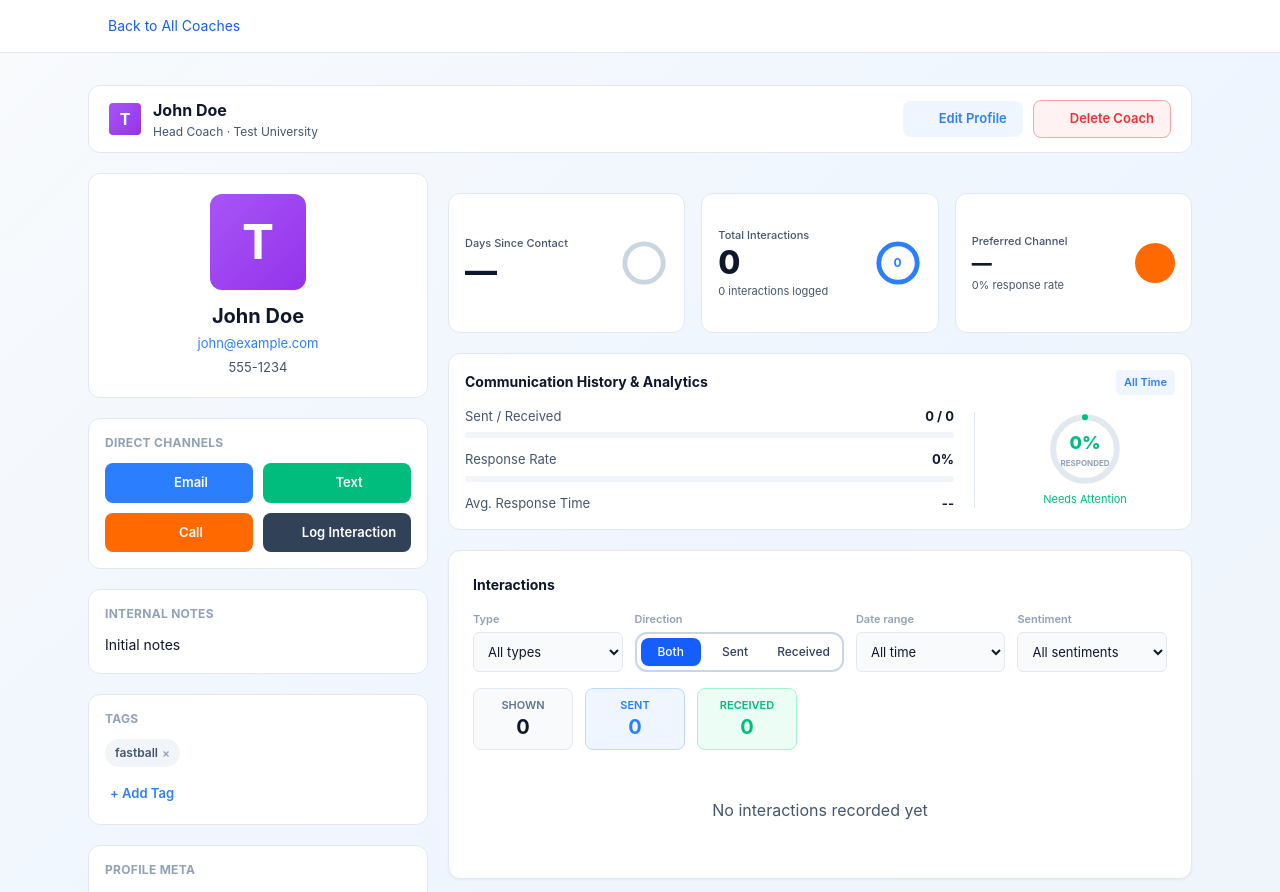
Scenario: Coach Detail Page › Coach Management › handles delete error gracefully
Click the button with test id "coach-header-delete".
click(1102, 119)  # box left=1033, top=100, right=1171, bottom=138
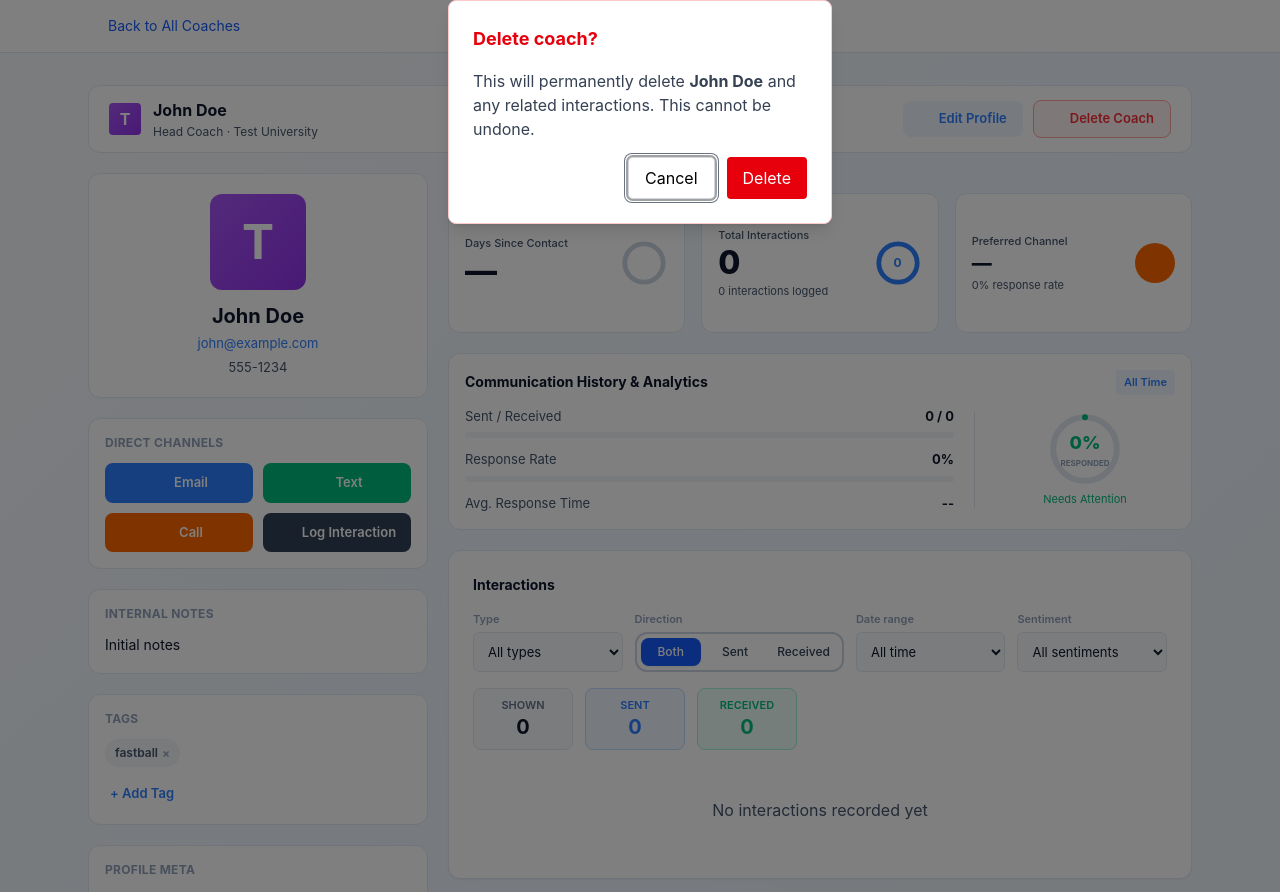
Click the button with test id "confirm-delete-btn".
click(767, 178)  # box left=726, top=157, right=807, bottom=199
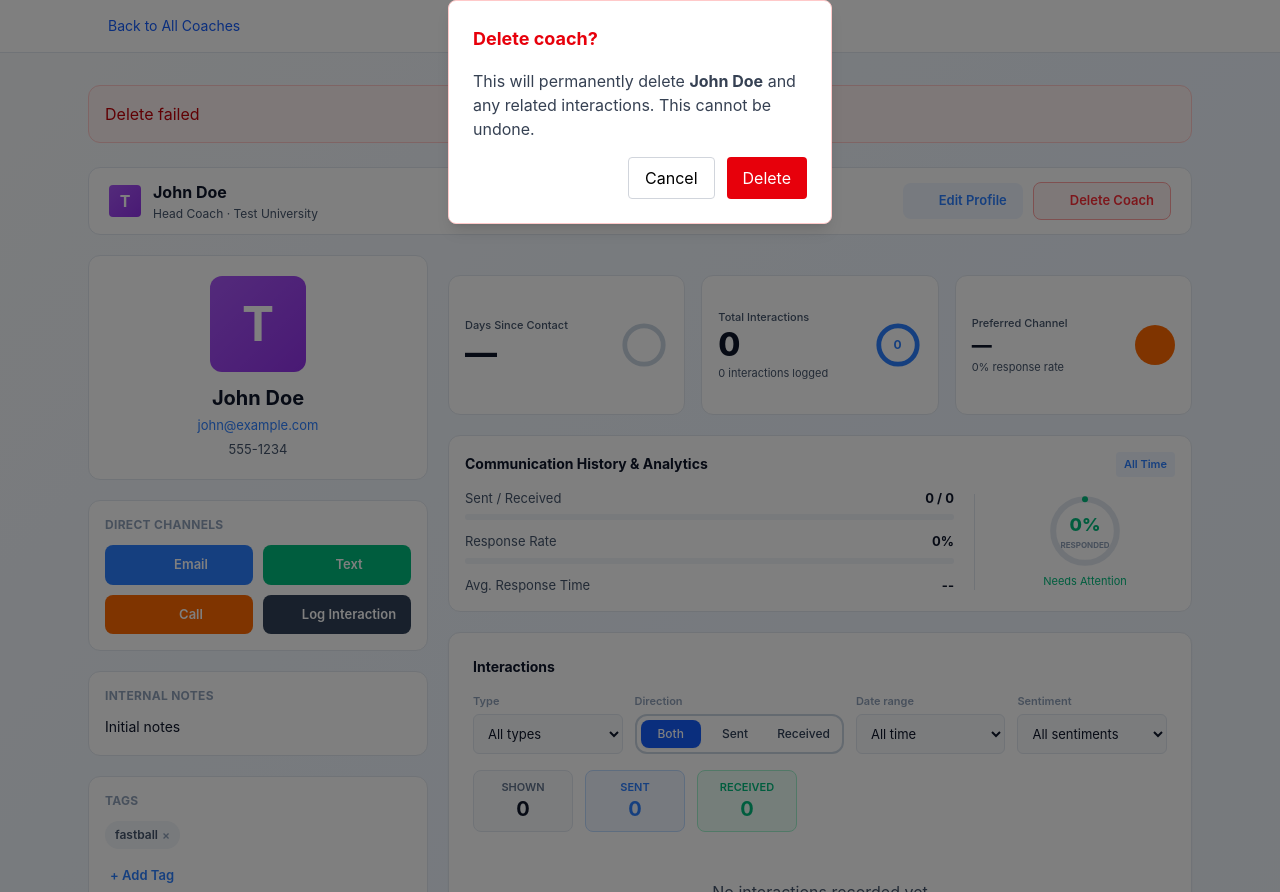
Check: the text "Delete failed" is shown, box left=105, top=104, right=200, bottom=124
